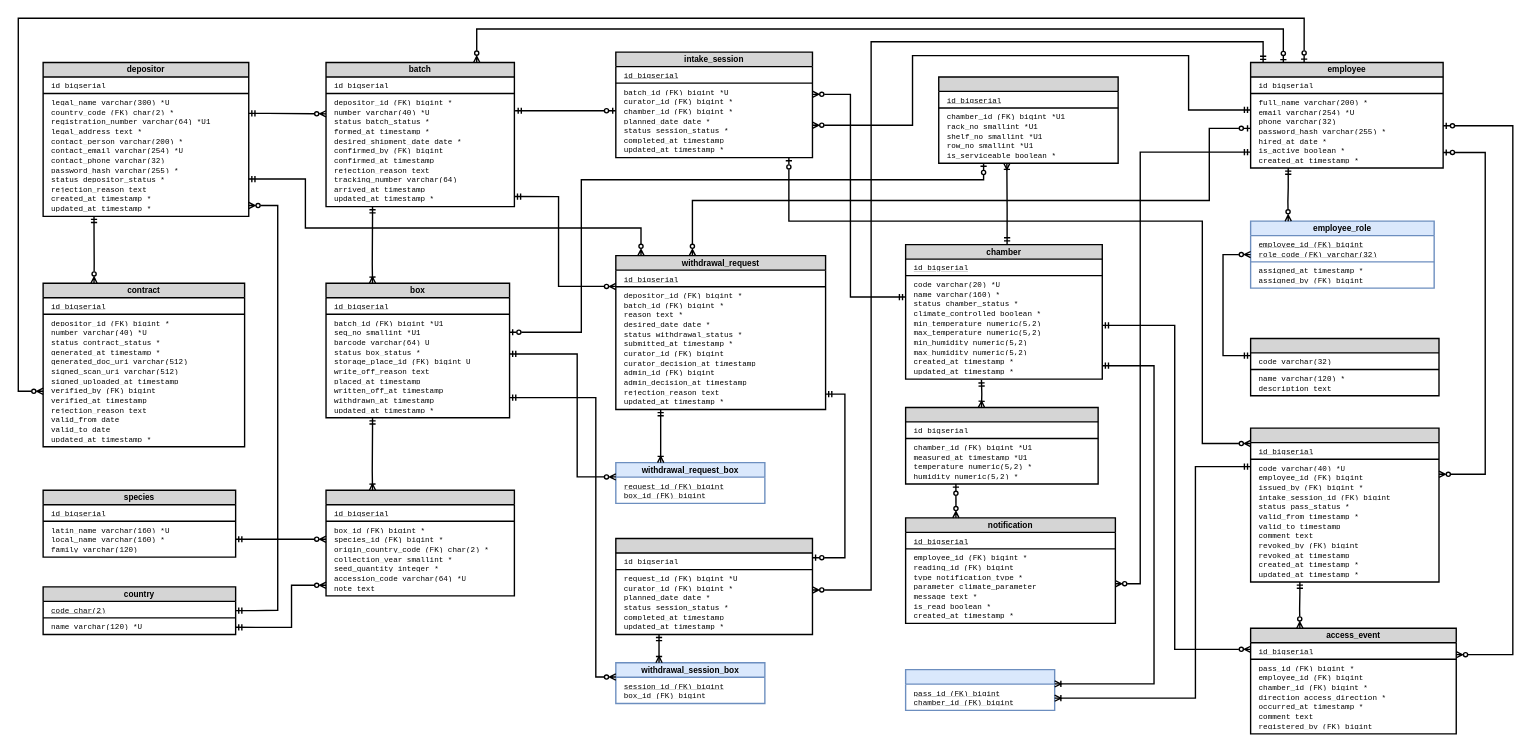
This 1531x746 diagram has some shape labels left out. The box of each missing label's shape, as (x1, y1, x2, y2) in pixels:
climate_reading: (905, 406, 1098, 484)
pass_chamber: (905, 669, 1055, 711)
role: (1250, 337, 1439, 396)
sample: (325, 489, 515, 596)
storage_place: (938, 76, 1118, 164)
vault_pass: (1250, 427, 1439, 582)
withdrawal_session: (615, 538, 813, 635)
